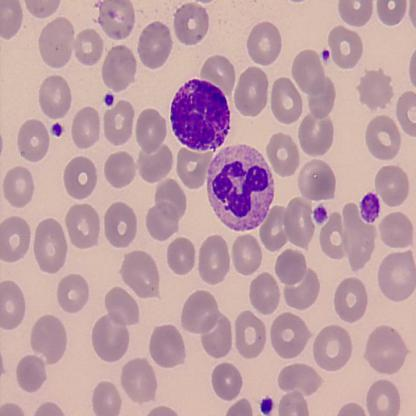Basophil: (167, 72, 234, 155)
